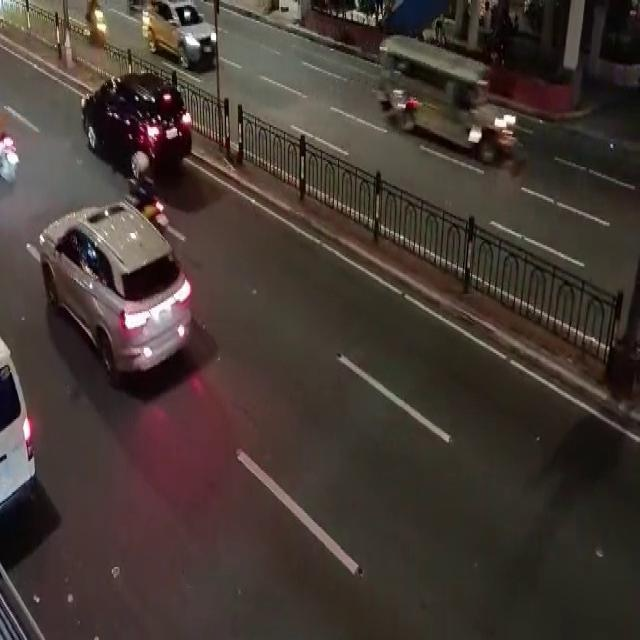car: (32, 184, 200, 403), (61, 55, 205, 184)
jeepney: (350, 22, 543, 195)
